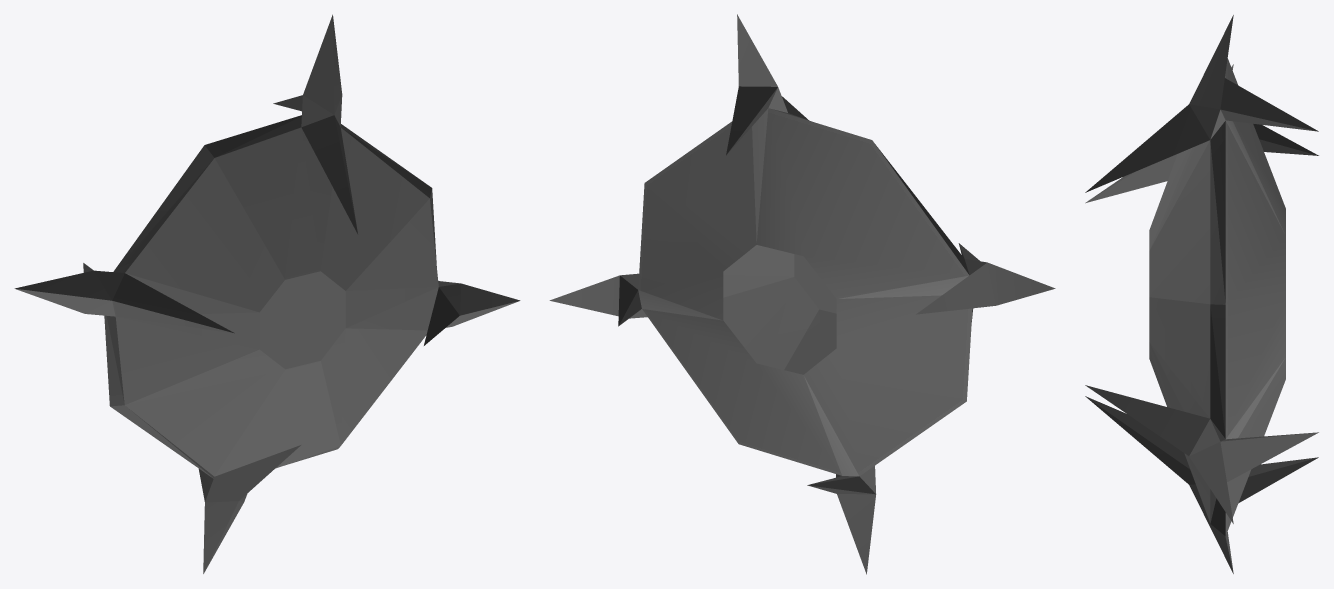
The model's file is stat_top4.glb.
The picture shows the model from 3 angles, left to right: view 1: azimuth 30°, elevation 25°; view 2: azimuth 150°, elevation 25°; view 3: azimuth 270°, elevation 25°; orthographic projection. The views are drawn at different scales.
Visible parts, largest first — view 1: group_19; view 2: group_19; view 3: group_19.
Boxes of the visible parts, bbox=[...] form: group_19: bbox=[14, 14, 520, 573]; group_19: bbox=[549, 14, 1055, 574]; group_19: bbox=[1085, 15, 1318, 573].
Size of the model in its own units: 33844 by 33770 by 11291.
Materials: 2 (2 with a texture image).
